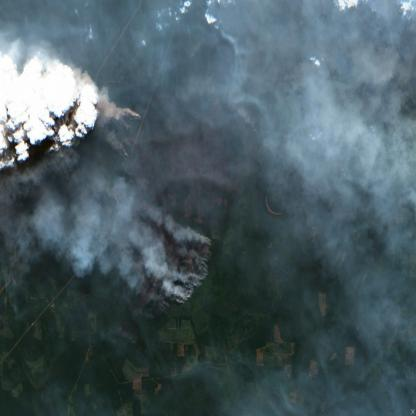fire: (90, 96, 218, 309)
